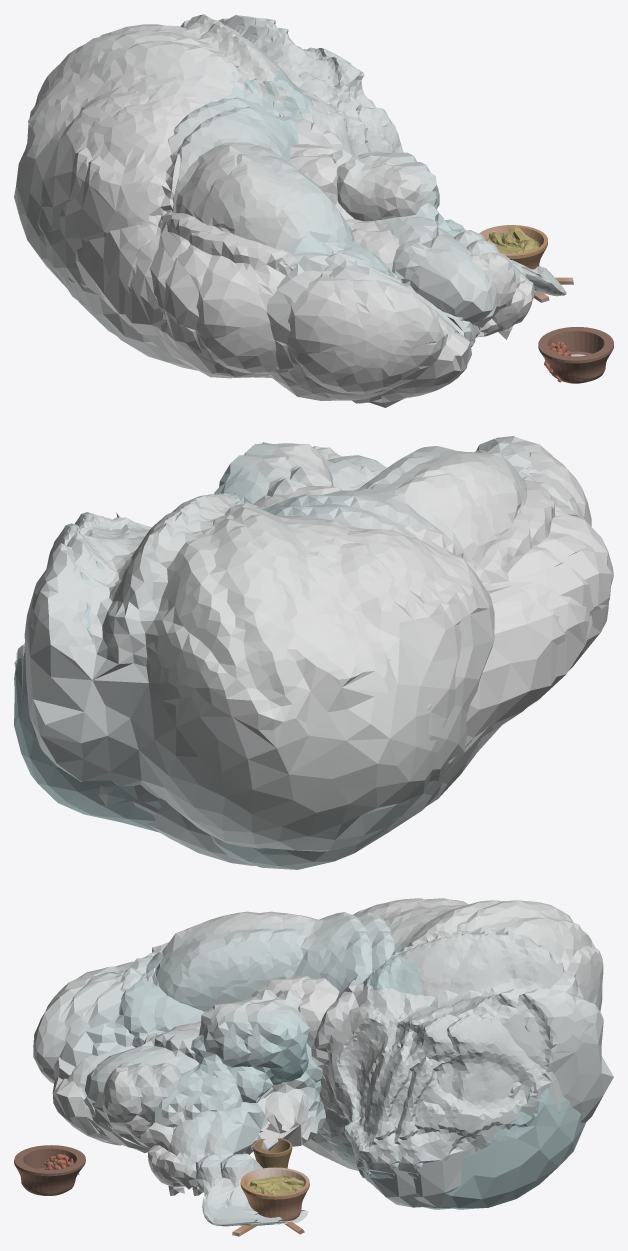
3 renders of one model, top to bottom at view 1: azimuth 30°, elevation 25°; view 2: azimuth 150°, elevation 25°; view 3: azimuth 270°, elevation 25°, orthographic. The views are drawn at different scales.
Size of the model in its own units: 12.27 by 7.73 by 15.91.
